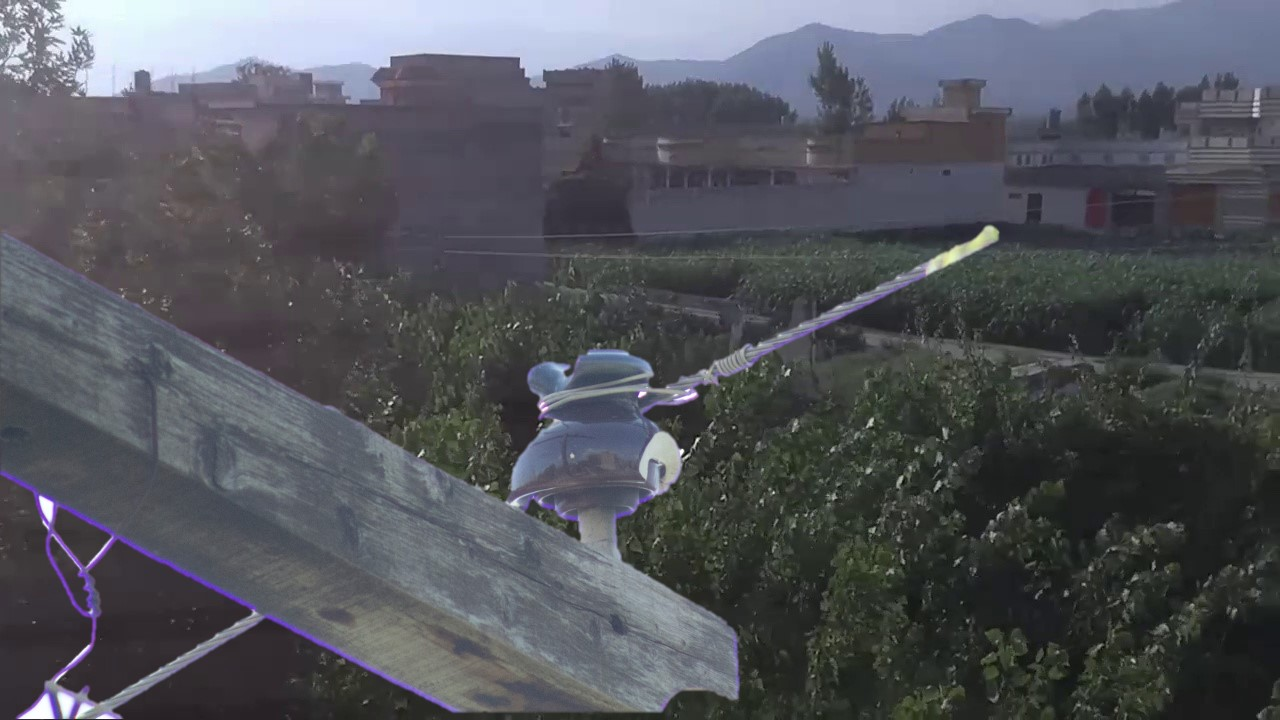defect_pin: (501, 339, 692, 522)
